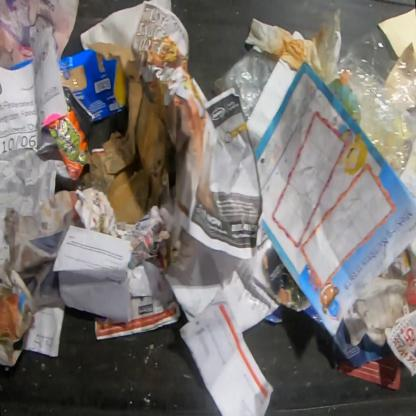cardboard: (81, 40, 175, 225), (0, 0, 80, 68), (0, 266, 38, 370), (378, 5, 415, 59)
soft_plastic: (337, 26, 415, 181), (212, 46, 278, 124), (47, 108, 89, 182)
